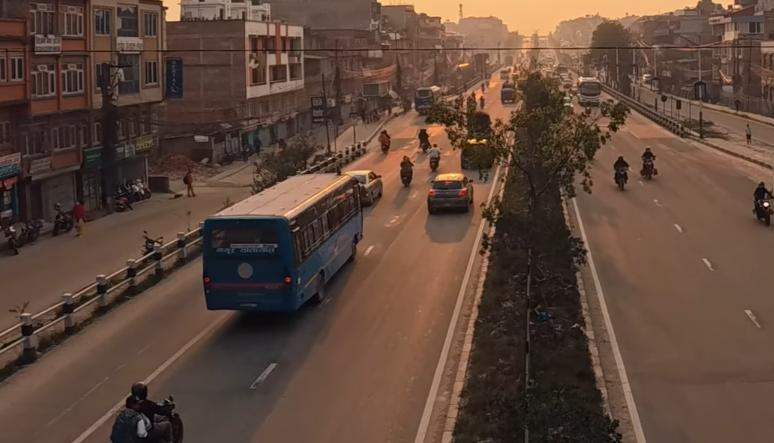bus: (195, 169, 368, 325)
